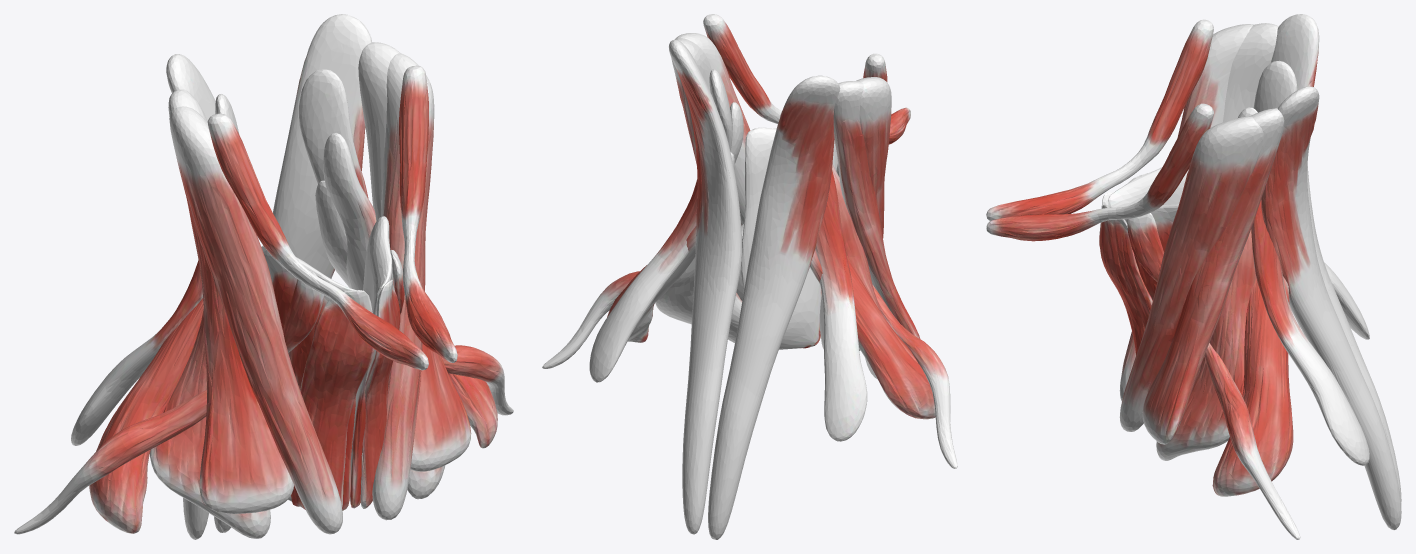
File: SubTool-3-11088136.OBJ
3 views of the same model, side by side, from view 1: azimuth 30°, elevation 25°; view 2: azimuth 150°, elevation 25°; view 3: azimuth 270°, elevation 25° (orthographic). The views are drawn at different scales.
Parts seen in each view (by area): view 1: Group12314; view 2: Group12314; view 3: Group12314.
Part boxes in pixels (box(x1,y1,x2,y2)): Group12314: box(14, 14, 513, 539); Group12314: box(542, 14, 957, 539); Group12314: box(986, 14, 1401, 539).
Bounding box in the file's own units: 9.38 × 9.65 × 7.7.
1 material, 1 textured.
